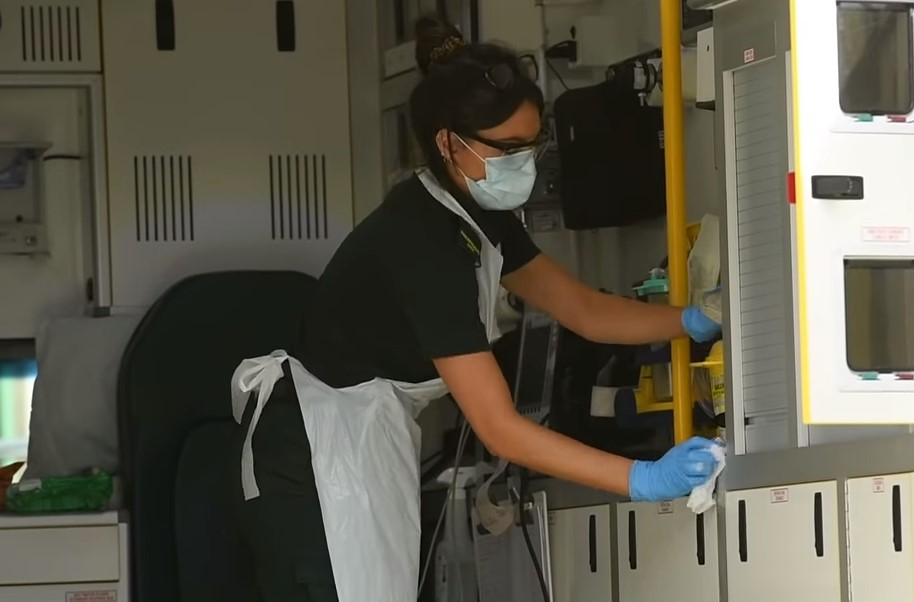face_with_mask: (414, 28, 548, 221)
